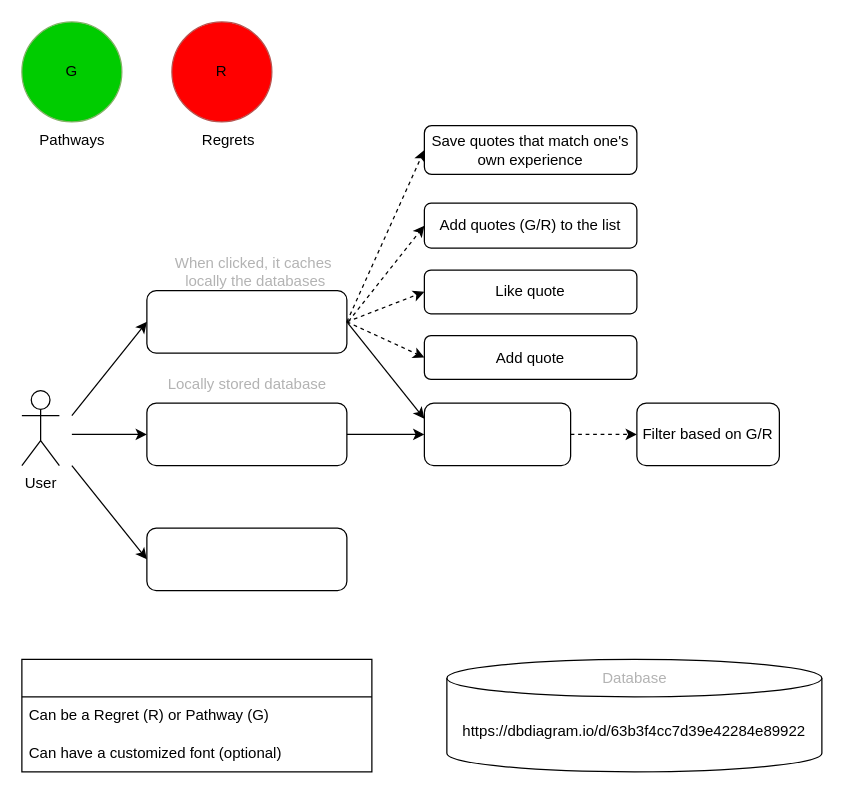
This 844x794 diagram has some shape labels left out. The box of each missing label's shape, as (x1, y1, x2, y2) in pixels:
Donate: (146, 527, 347, 591)
My List: (146, 402, 347, 466)
Quote: (21, 658, 372, 772)
Universal List: (146, 289, 347, 353)
Visualize list: (423, 402, 571, 466)
